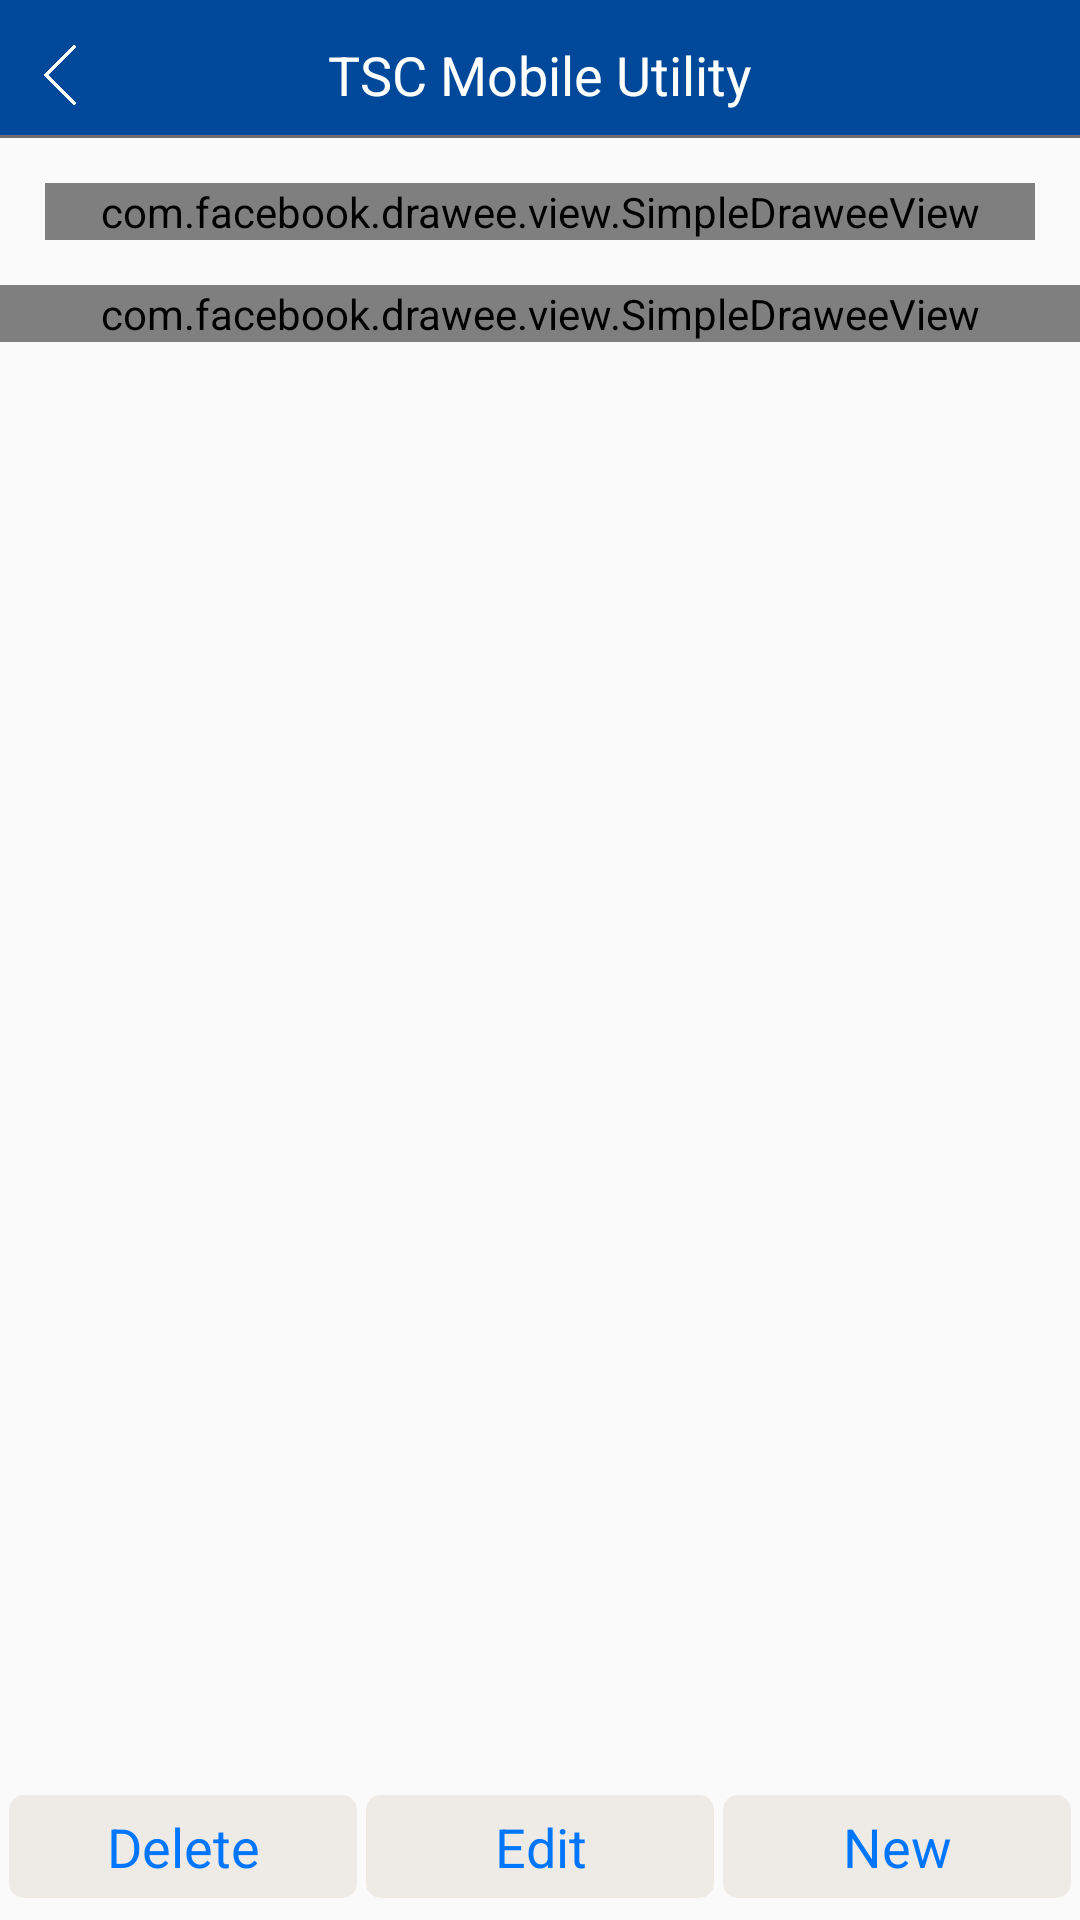

Locate icon controls on the screen. Image size 1080*1920, boxes as (x1, y1, x2, y2).
arrow left: (44, 45, 76, 105)
